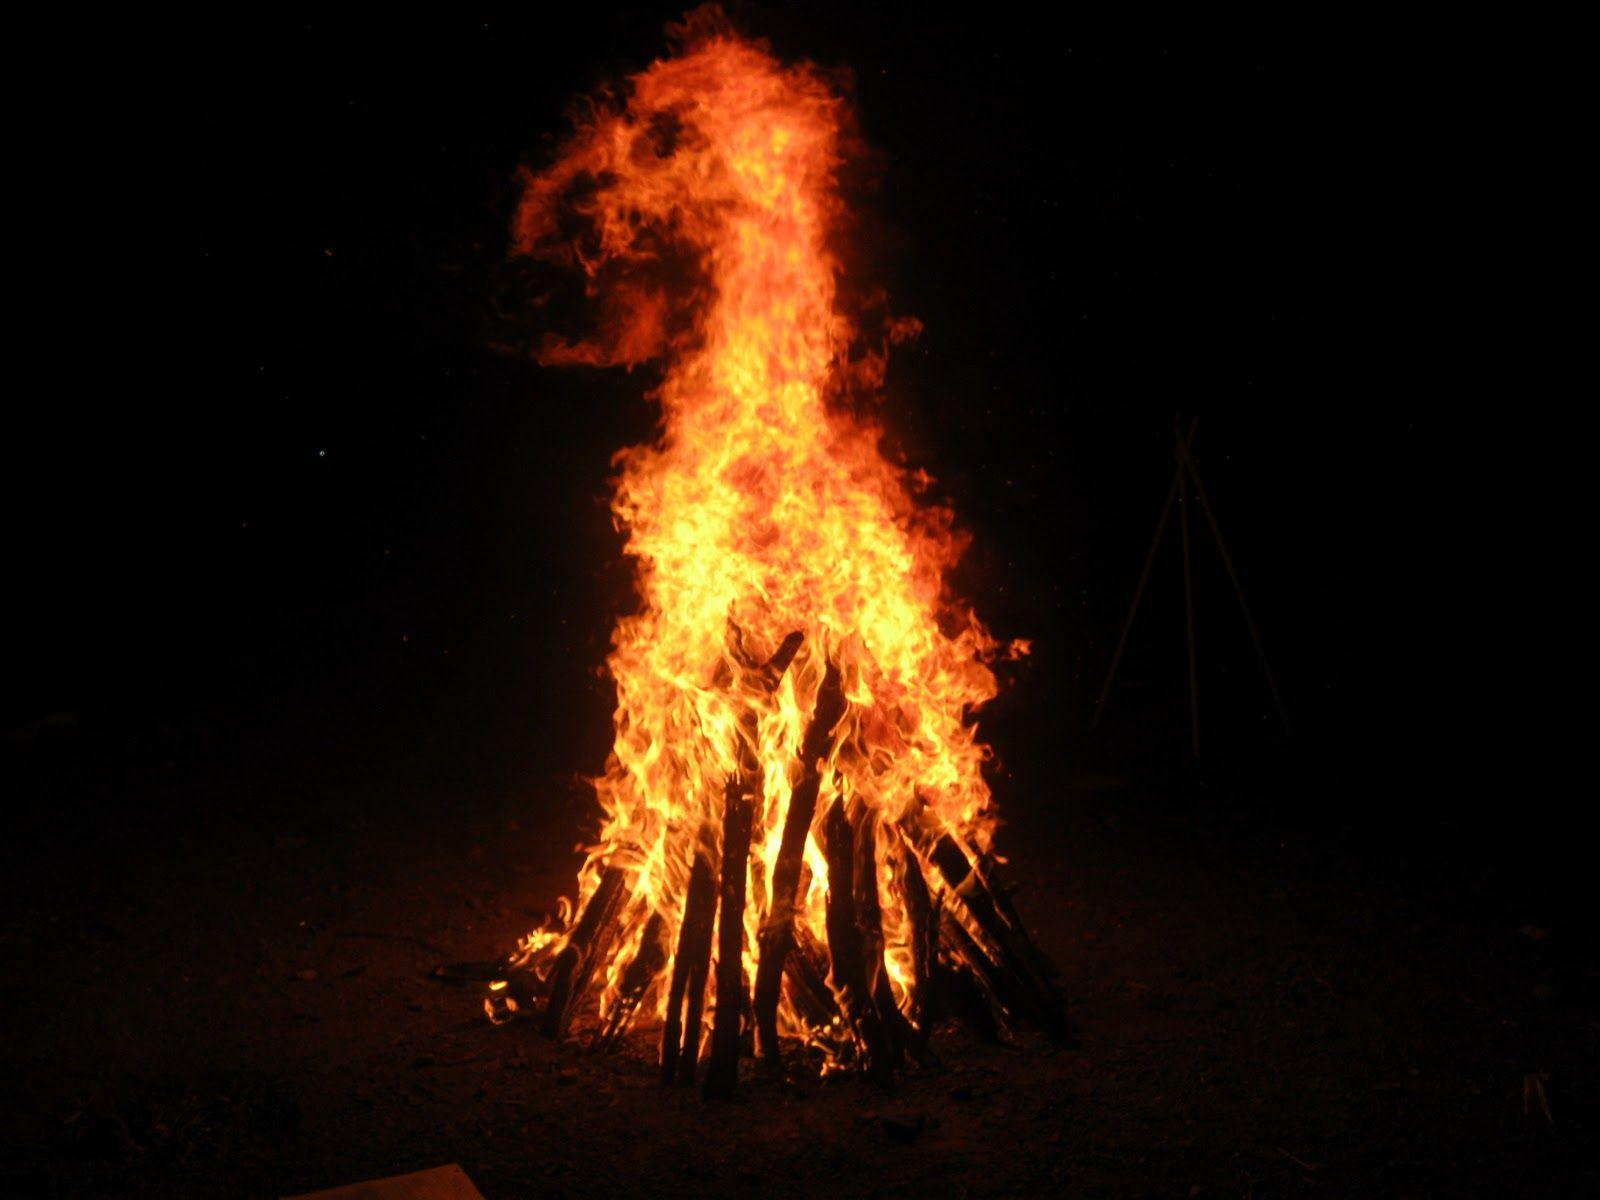Fire: (503, 26, 1015, 1056)
